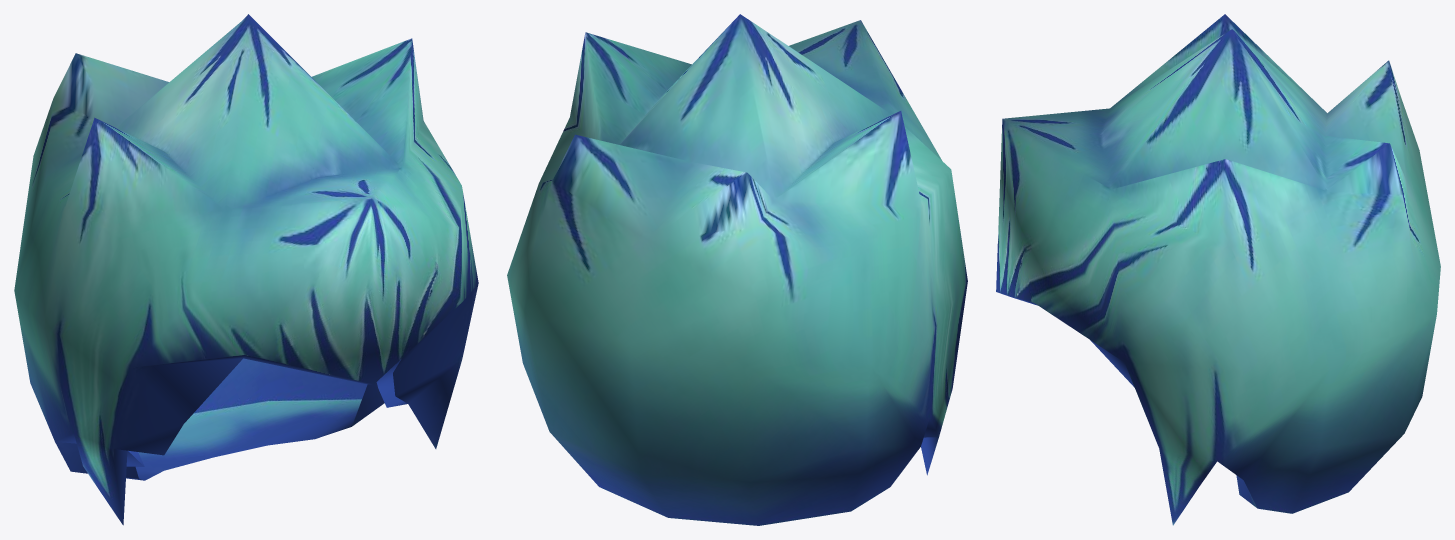
The model's file is Hair_Boy_style_04_uv_v003.fbx.
3 views of the same model, side by side, from view 1: azimuth 30°, elevation 25°; view 2: azimuth 150°, elevation 25°; view 3: azimuth 270°, elevation 25° (orthographic). The views are drawn at different scales.
Parts seen in each view (by area): view 1: Head1; view 2: Head1; view 3: Head1.
Part boxes in pixels (x1,y1,x2,y2): Head1: [14, 14, 478, 525]; Head1: [507, 14, 967, 525]; Head1: [996, 14, 1440, 525].
Size of the model in its own units: 2.92 by 3.39 by 3.08.
Materials: 1 (1 with a texture image).
